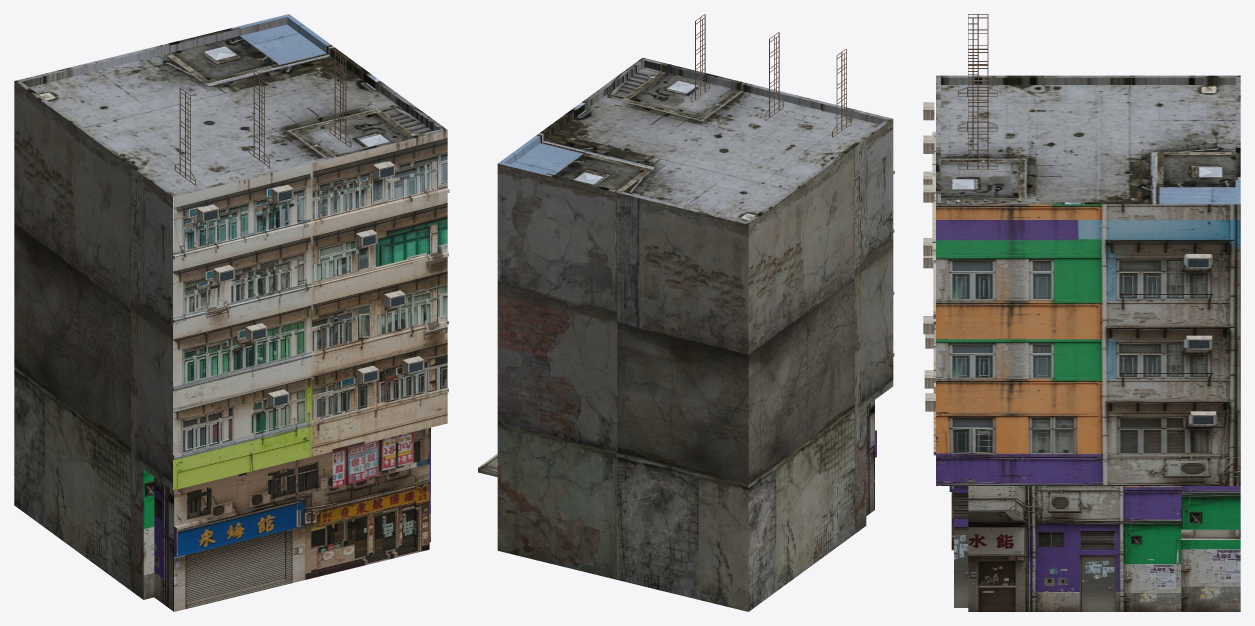
3 views of the same model, side by side, from view 1: azimuth 30°, elevation 25°; view 2: azimuth 150°, elevation 25°; view 3: azimuth 270°, elevation 25° (orthographic). The views are drawn at different scales.
Visible parts, largest first — view 1: Cube.047; view 2: Cube.047; view 3: Cube.047.
Boxes of the visible parts, <box> form: Cube.047: <box>14,14,449,611</box>; Cube.047: <box>478,14,894,611</box>; Cube.047: <box>923,14,1240,611</box>.
Size of the model in its own units: 2.44 by 3.98 by 2.36.
Materials: 6 (5 with a texture image).
